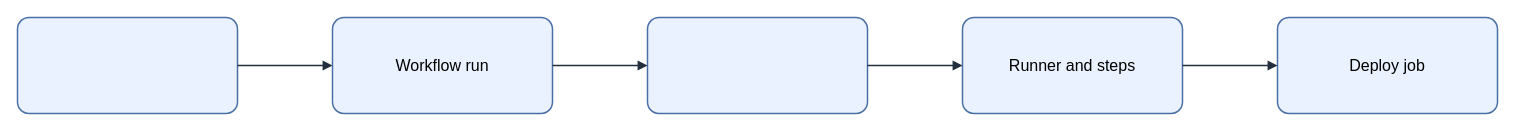
Image size: 1516x132. Some labels were removed from this diagram. The shapes that lost their labels are listed below. From the top down, each one's centre as x and y in pixels, then its label:
At (127,65): "GitHub event".
At (757,65): "Test and lint jobs".
